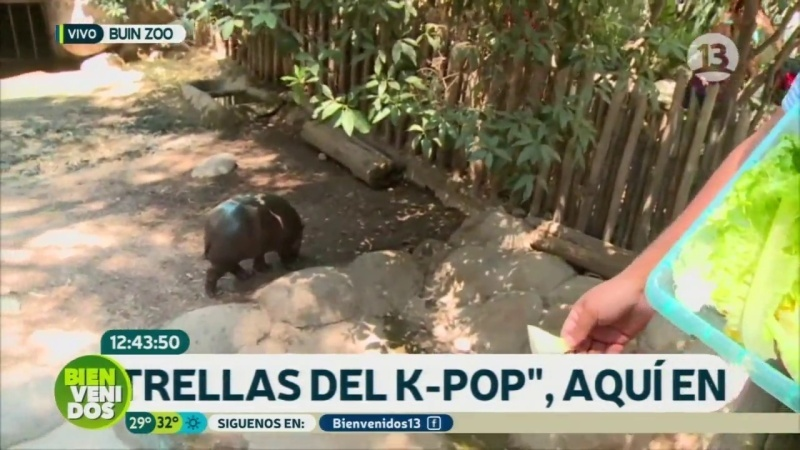hipopotamo: (188, 185, 325, 306)
